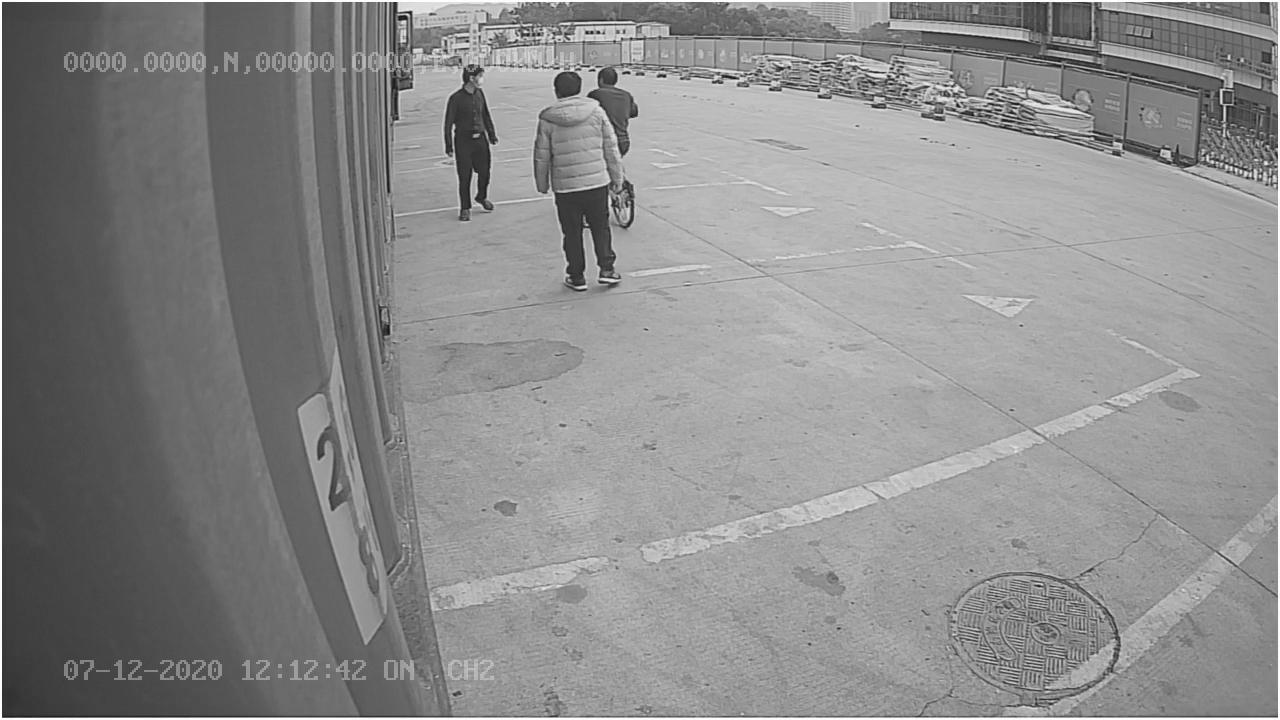person: (530, 66, 625, 291)
